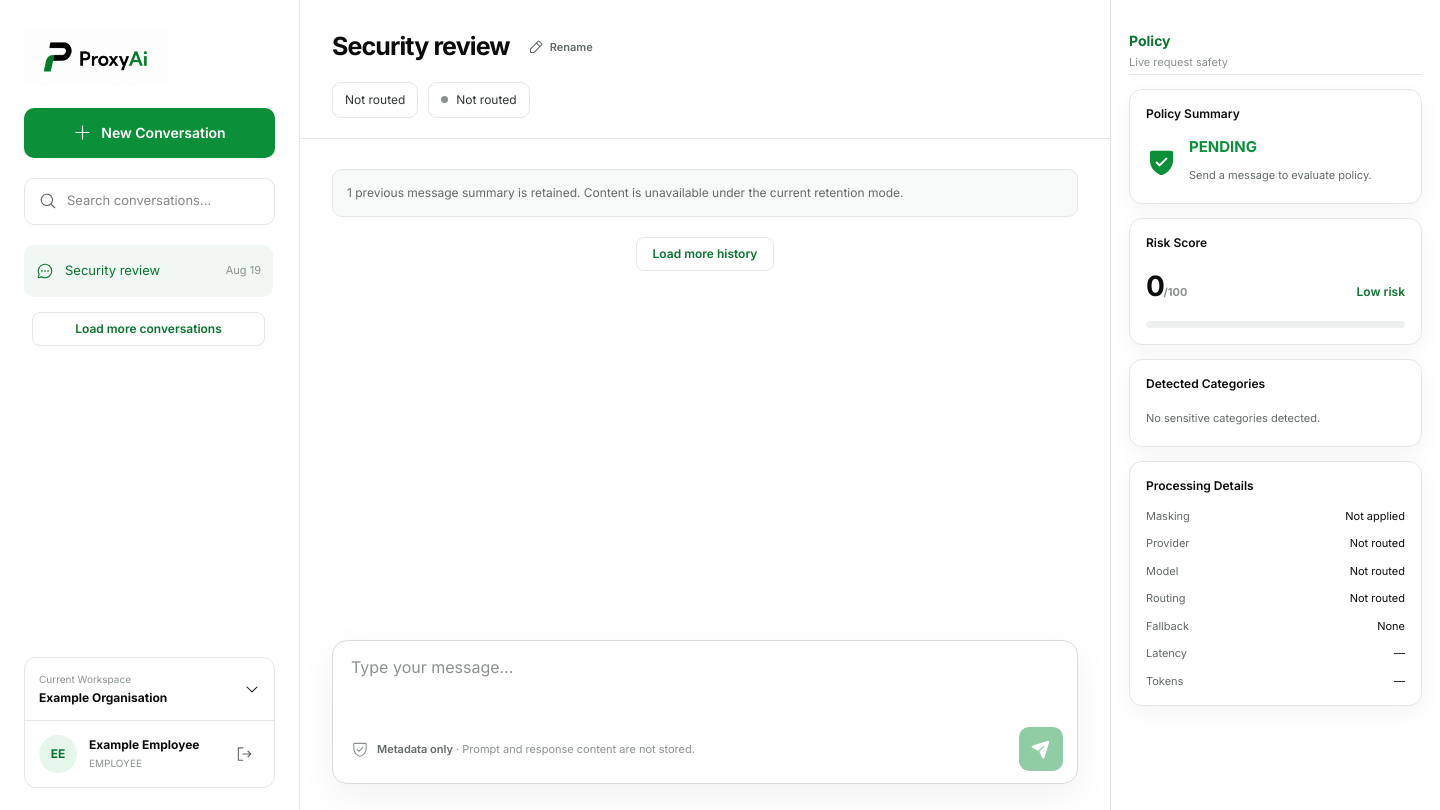
Scenario: conversation workspace loading › loads bounded conversation and message pages without duplicate records
Expected: the heading "Security review" is shown, [332,28,510,66]
What coordinates should you click on to do the following:
click the button "Load more conversations"
I would click on:
 (148, 329)
Its box is [32,312,265,346].
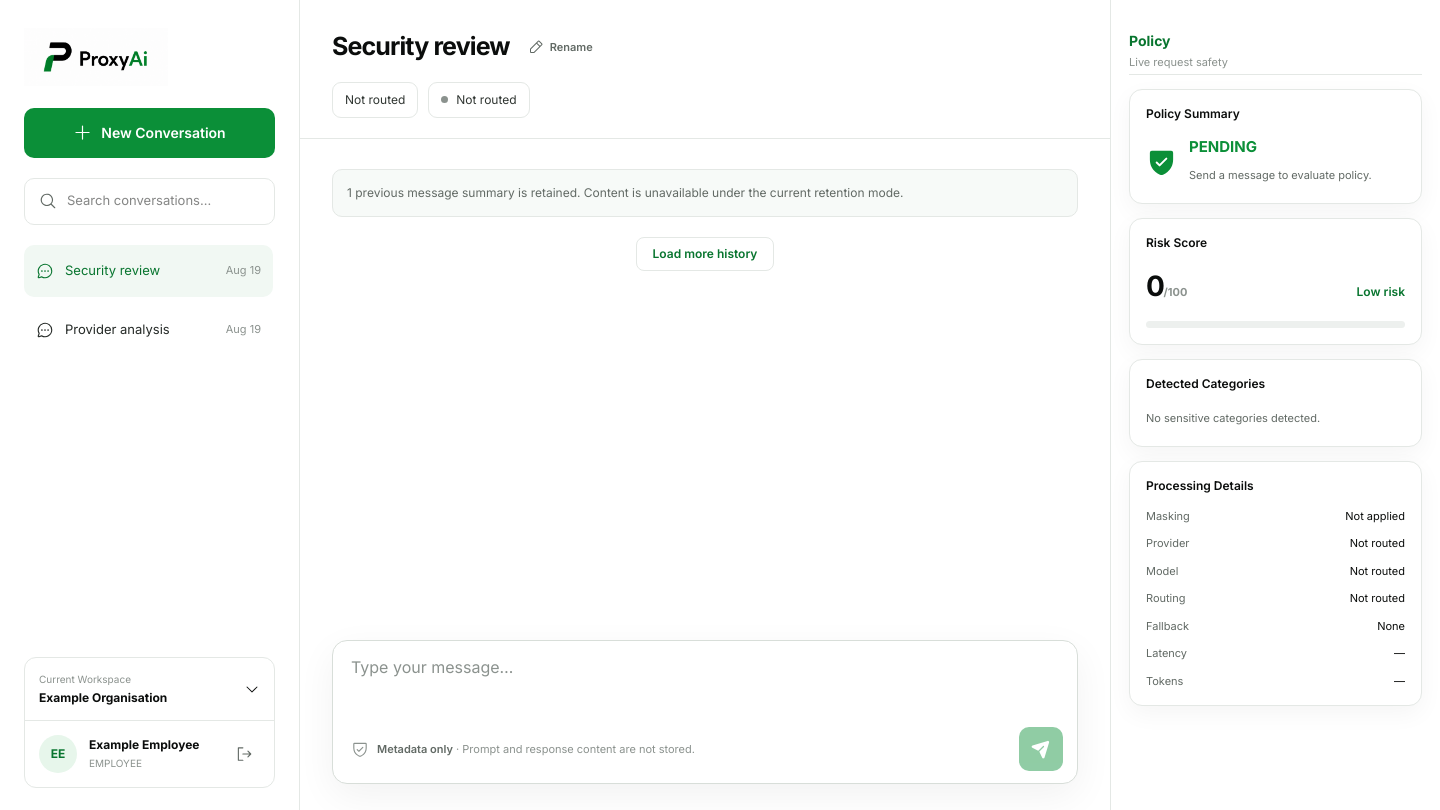
Now the link "Provider analysis Aug 19" is shown, box [36,321,261,339]
Now the number of links "Security review Aug 19" is 1, box [24,245,273,297]
What coordinates should you click on to do the following:
click the button "Load more history"
I would click on:
 (705, 254)
Its box is [636,236,774,270].
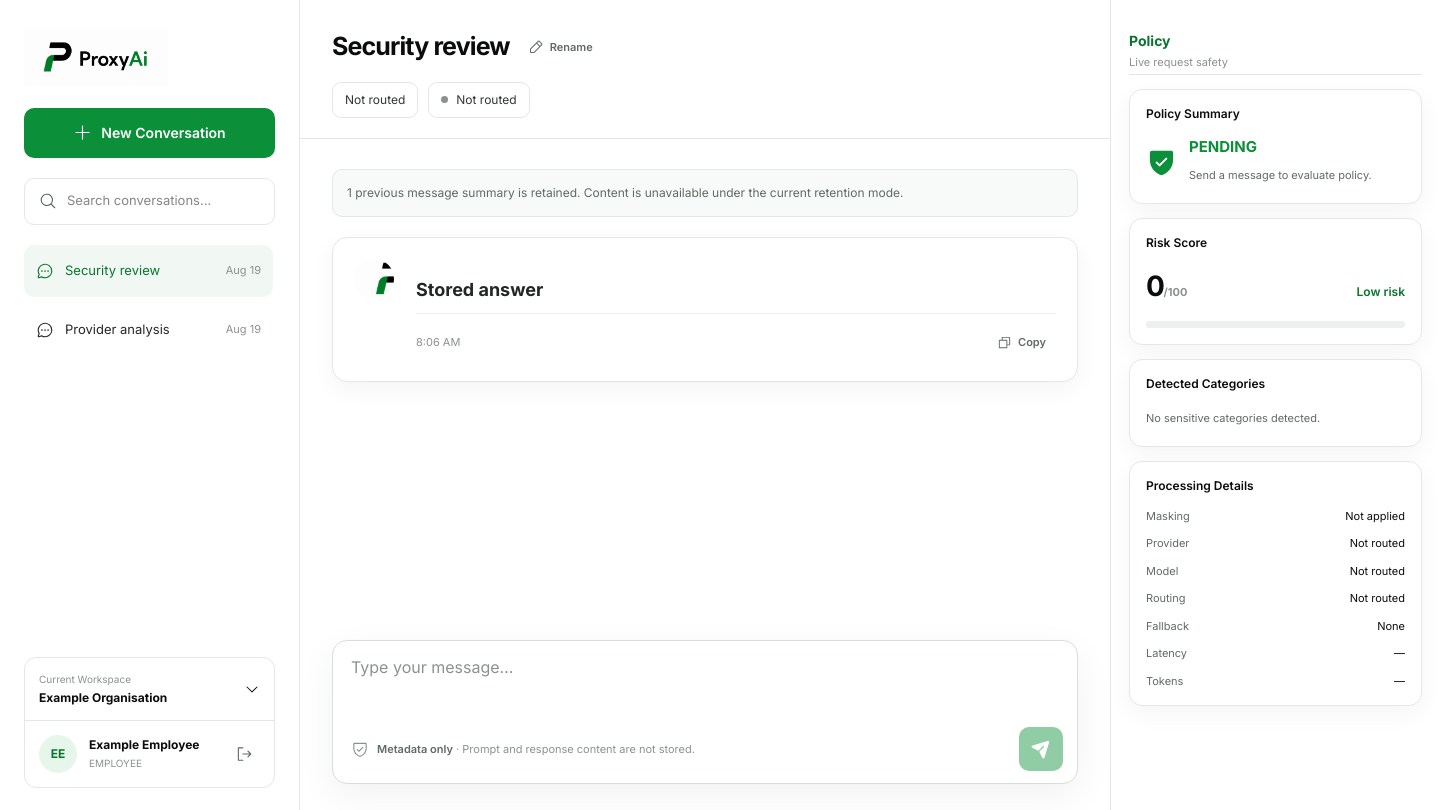
Expected: the text "1 previous message summary is retained" is shown, [332,168,1078,216]
Now the heading "Stored answer" is shown, box [416,278,543,300]
